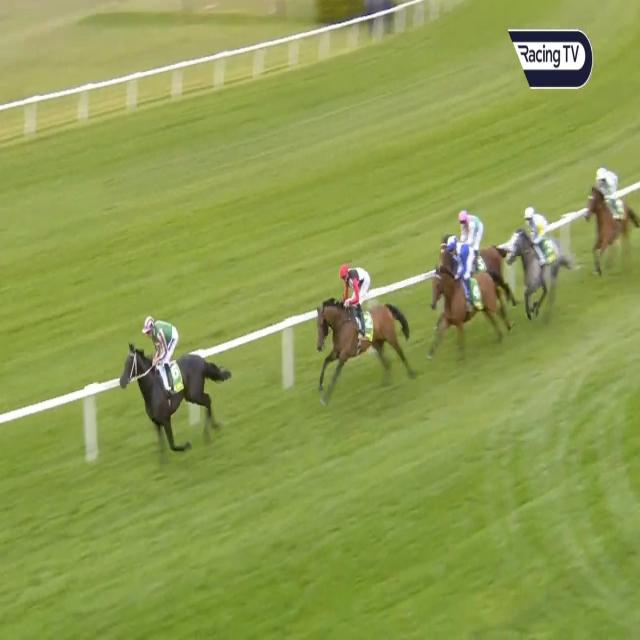horses-racing: (317, 265, 405, 396), (123, 316, 216, 434), (433, 241, 501, 348), (504, 204, 566, 310), (582, 168, 638, 256), (438, 212, 499, 272)
